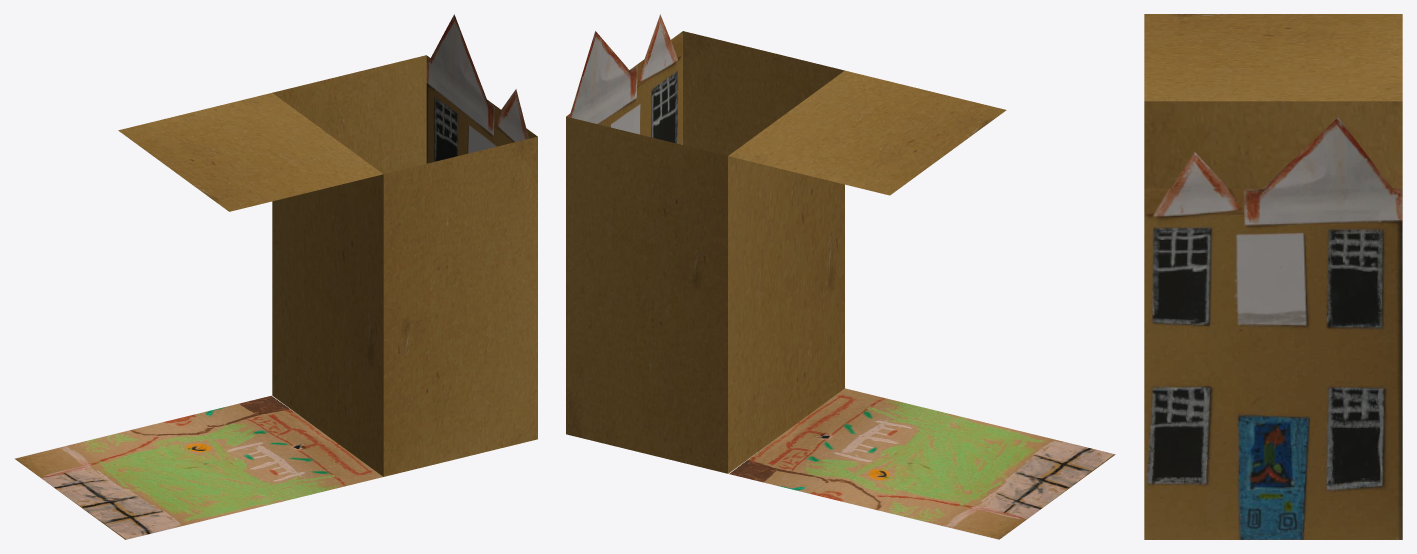
3 views of the same model, side by side, from view 1: azimuth 30°, elevation 25°; view 2: azimuth 150°, elevation 25°; view 3: azimuth 270°, elevation 25° (orthographic). The views are drawn at different scales.
Visible parts, largest first — view 1: Cube, Cube.002, Cube.003; view 2: Cube, Cube.002, Cube.003; view 3: Cube, Cube.002, Cube.003.
Boxes of the visible parts, x1,y1,x2,y2 form: Cube: (14,14,537,539); Cube.002: (118,93,382,211); Cube.003: (272,55,537,174); Cube: (566,14,1115,539); Cube.002: (728,70,1006,195); Cube.003: (566,31,844,155); Cube: (1144,117,1402,539); Cube.002: (1144,14,1402,101); Cube.003: (1144,101,1402,188).
Size of the model in its own units: 21.39 by 18.05 by 10.
Materials: 1 (1 with a texture image).
